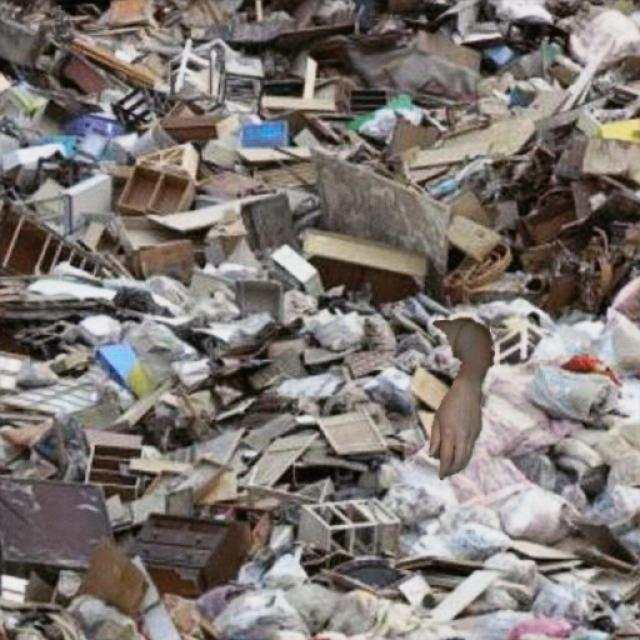Person in Rubble: (428, 317, 494, 478)
